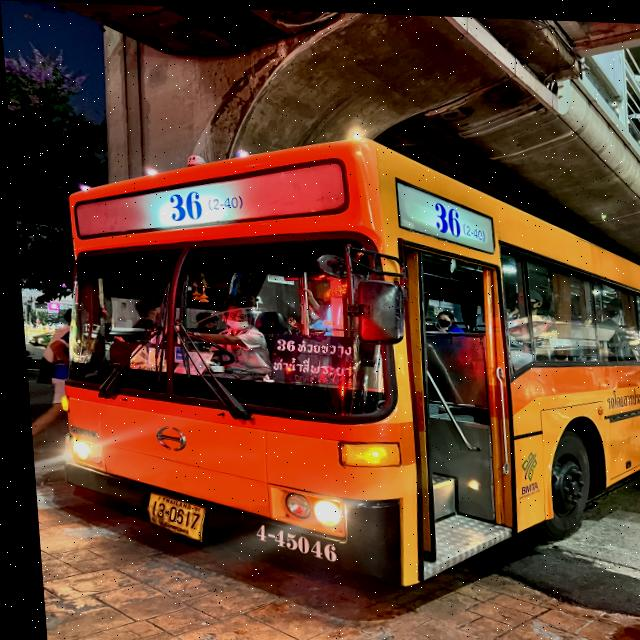BMTA-bus: (36, 128, 640, 600)
Bus-Line-Number: (148, 184, 252, 226)
Destination-Sign-Normal: (264, 333, 356, 387)
